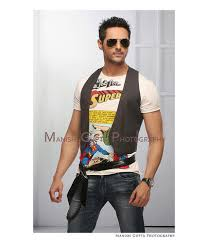Indian_Male: (99, 16, 133, 64)
